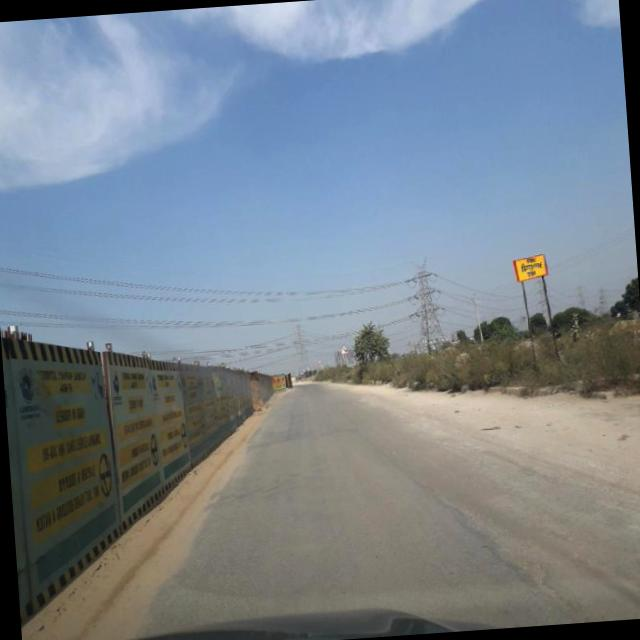pothole: (410, 458, 627, 622)
